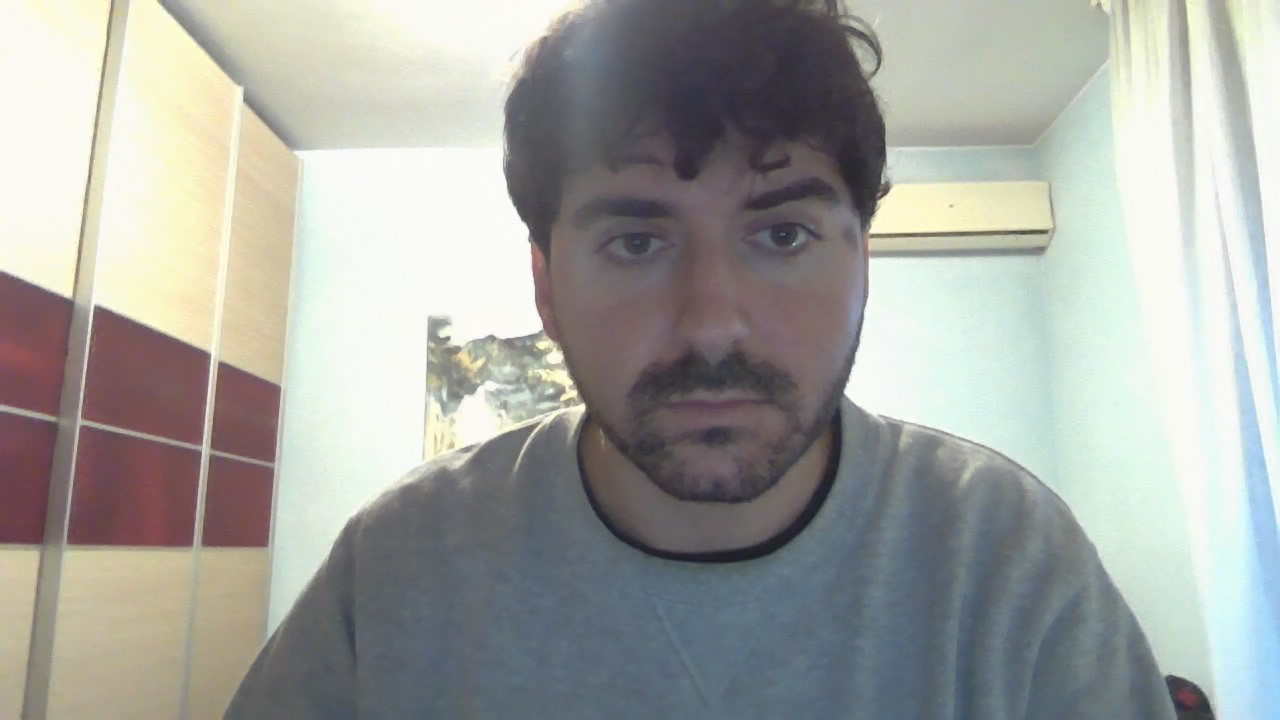NoGlasses: (518, 183, 879, 274)
